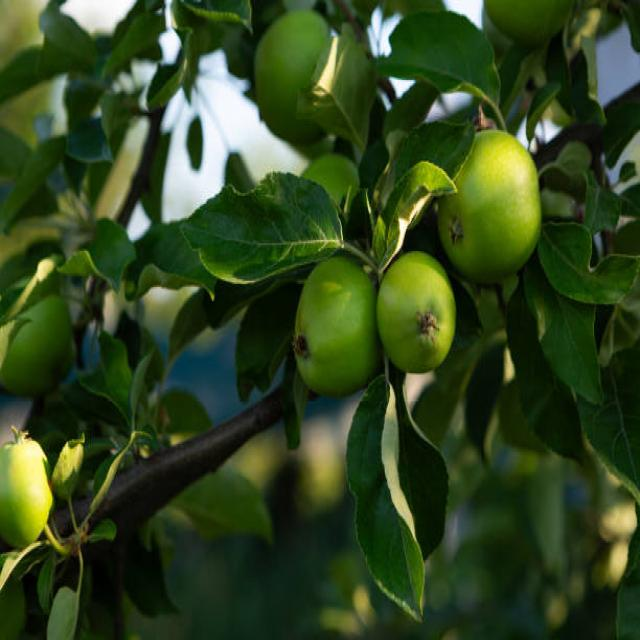Unripe: (439, 130, 542, 280), (291, 256, 381, 399), (378, 251, 457, 376)
